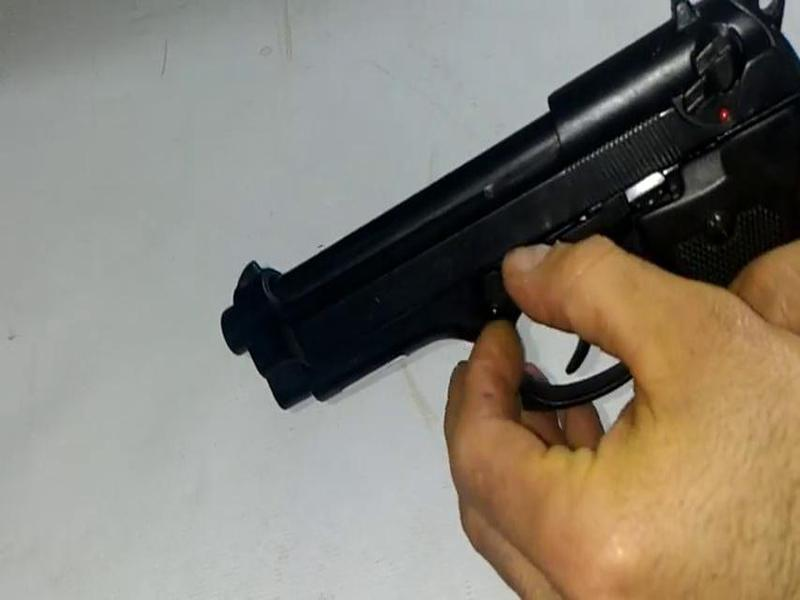Pistola: (209, 10, 800, 433)
